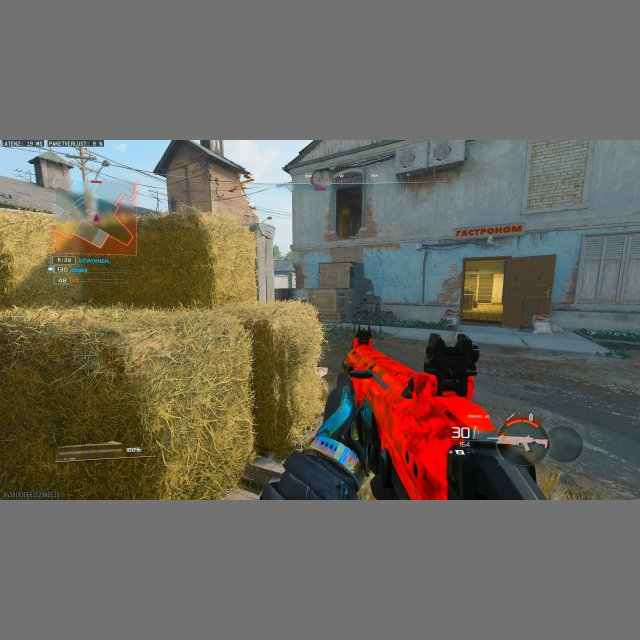player: (439, 308, 459, 329)
